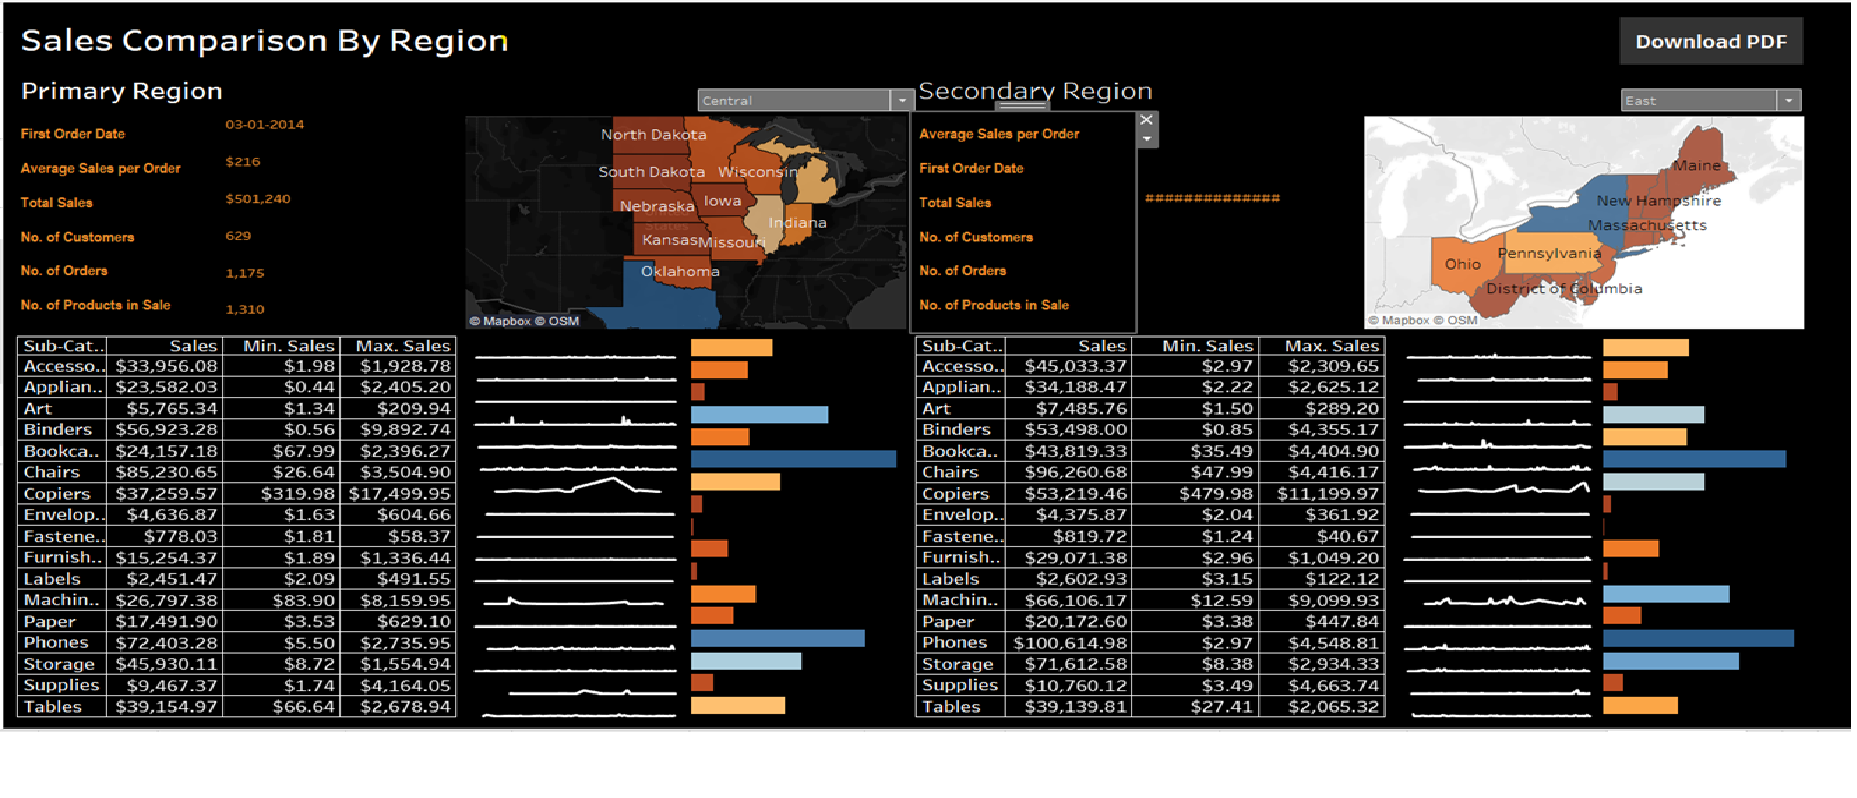

Layout of this report page (visuals, bound fields, positions):
{"tool":"tableau","page":{"name":"Dashboard 1","canvas":[1000,1000],"units":"permille","ordinal":0},"visuals":[{"type":"text","box":[4.8,10,971,78.7]},{"type":"dashboard-object","box":[873.9,20,99,64.9]},{"type":"text","box":[4.8,88.6,485.5,62.4]},{"type":"text","box":[490.3,88.6,485.5,62.4]},{"type":"filter","title":"Primary Map","param":"[federated.0ol3mpm08btub210seu3n0fjo2qg].[none:Region:nk]","box":[373.6,114.9,121.3,42.5]},{"type":"filter","title":"Secondary Map","param":"[federated.0ol3mpm08btub210seu3n0fjo2qg].[none:Region:nk]","box":[872.7,117.4,101.4,35]},{"type":"text","box":[4.8,151.1,110.4,303.4]},{"type":"worksheet","title":"Primary Measure","mark":"Automatic","box":[115.2,151.1,132.2,303.4]},{"type":"worksheet","title":"Primary Map","mark":"Automatic","box":[247.4,151.1,243.2,303.4]},{"type":"text","box":[490.6,151.1,121.3,303.4]},{"type":"worksheet","title":"Secondary Measure","mark":"Automatic","box":[611.9,151.1,121.3,303.4]},{"type":"worksheet","title":"Secondary Map","mark":"Automatic","box":[733.2,151.1,242.6,303.4]},{"type":"worksheet","title":"Primary Region Sales","mark":"Automatic","rows":["Sub-Category"],"box":[4.8,454.4,242.9,535.6]},{"type":"worksheet","title":"Primary Sales Line","mark":"Automatic","rows":["Sub-Category","Sales"],"cols":["Order Date"],"box":[247.7,454.4,121.5,535.6]},{"type":"worksheet","title":"Primary Sales Chart","mark":"Automatic","rows":["Sub-Category"],"cols":["Sales"],"box":[369.2,454.4,121.5,535.6]},{"type":"worksheet","title":"Secondary Region Sales ","mark":"Automatic","rows":["Sub-Category"],"box":[490.6,454.4,258.9,535.6]},{"type":"worksheet","title":"Secondary Sales Line","mark":"Automatic","rows":["Sub-Category","Sales"],"cols":["Order Date"],"box":[749.5,454.4,113.2,535.5]},{"type":"worksheet","title":"Secondary Sales Chart","mark":"Automatic","rows":["Sub-Category"],"cols":["Sales"],"box":[862.7,454.4,113.2,535.5]}]}

Visuals, with their boxes on the dashboard's canvas, which has no fixed pixel size, in thousandths of its width and height (x1, y1, x2, y2). These are canvas units, not pixel positions in the 1857x798 screenshot, which may show the page scaled, cropped or inside an application window:
text: 5:10:976:89
dashboard-object: 874:20:973:85
text: 5:89:490:151
text: 490:89:976:151
"Primary Map" filter: 374:115:495:157
"Secondary Map" filter: 873:117:974:152
text: 5:151:115:454
"Primary Measure" worksheet: 115:151:247:454
"Primary Map" worksheet: 247:151:491:454
text: 491:151:612:454
"Secondary Measure" worksheet: 612:151:733:454
"Secondary Map" worksheet: 733:151:976:454
"Primary Region Sales" worksheet: 5:454:248:990
"Primary Sales Line" worksheet: 248:454:369:990
"Primary Sales Chart" worksheet: 369:454:491:990
"Secondary Region Sales " worksheet: 491:454:750:990
"Secondary Sales Line" worksheet: 750:454:863:990
"Secondary Sales Chart" worksheet: 863:454:976:990
